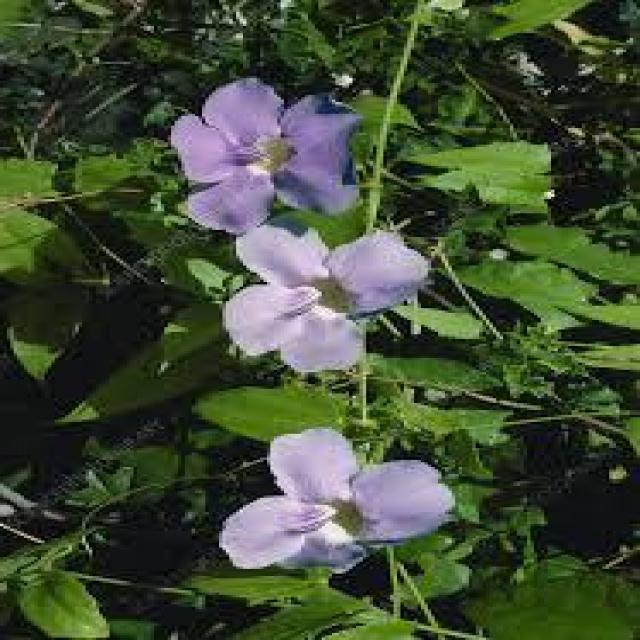organic waste: (210, 426, 464, 584), (152, 80, 392, 220), (224, 228, 426, 379)
